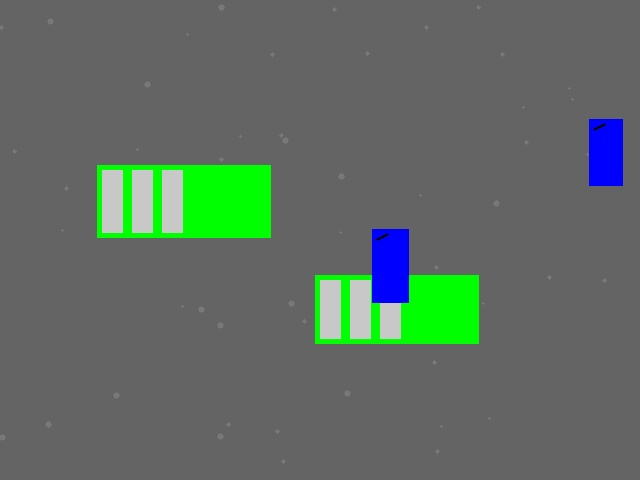bus: (97, 165, 270, 237), (315, 275, 478, 343)
motorcycle: (372, 229, 408, 302), (589, 119, 622, 185)
